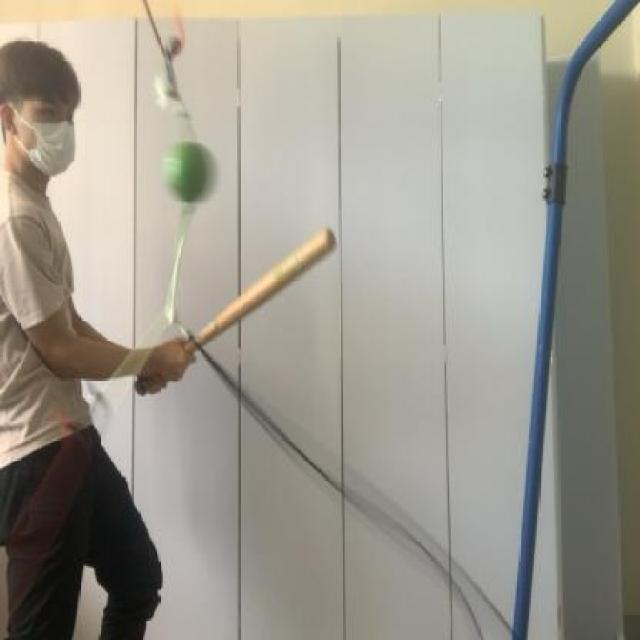baseball: (156, 136, 232, 213)
